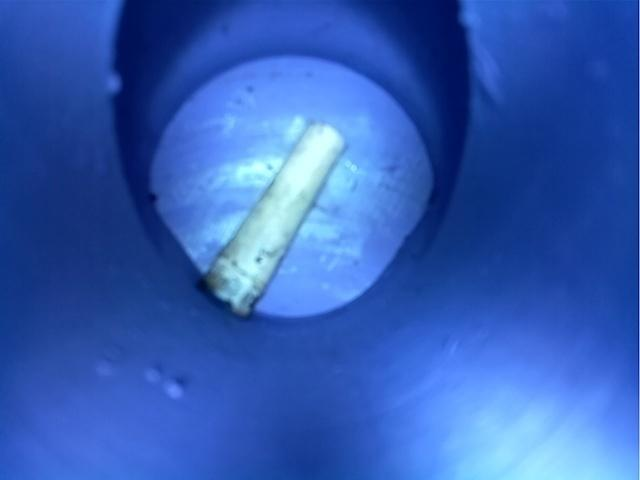megot: (183, 116, 361, 329)
